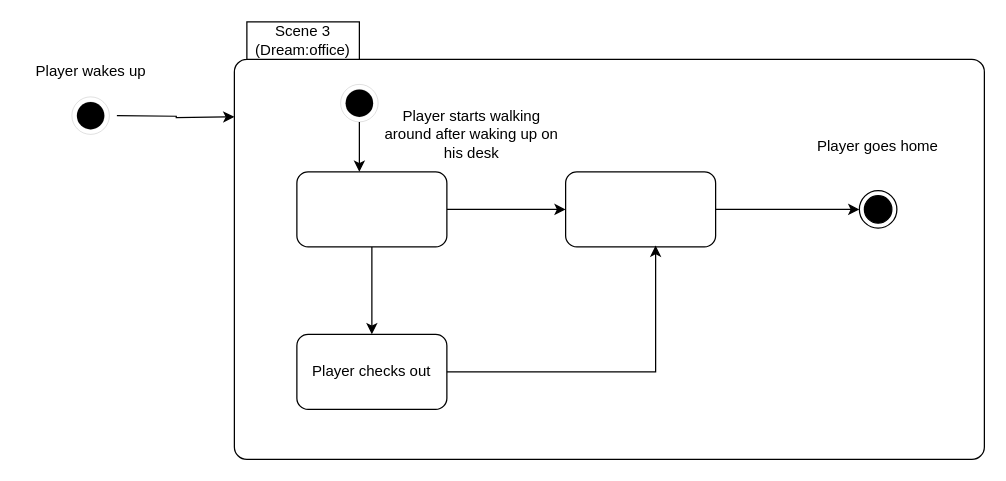
This 1006x481 diagram has some shape labels left out. The centre of each missing label's shape, as x and y in pixels:
"Go to elevator and leave" goes at pixel 640 209.
"Walk around inside the office" goes at pixel 371 209.
